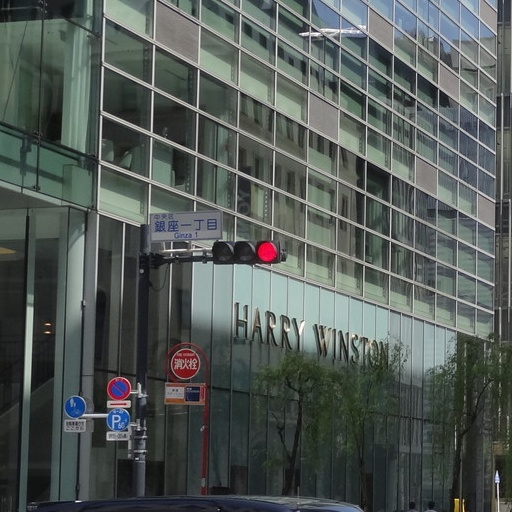Traffic_Signal_Red: (206, 234, 291, 261)
